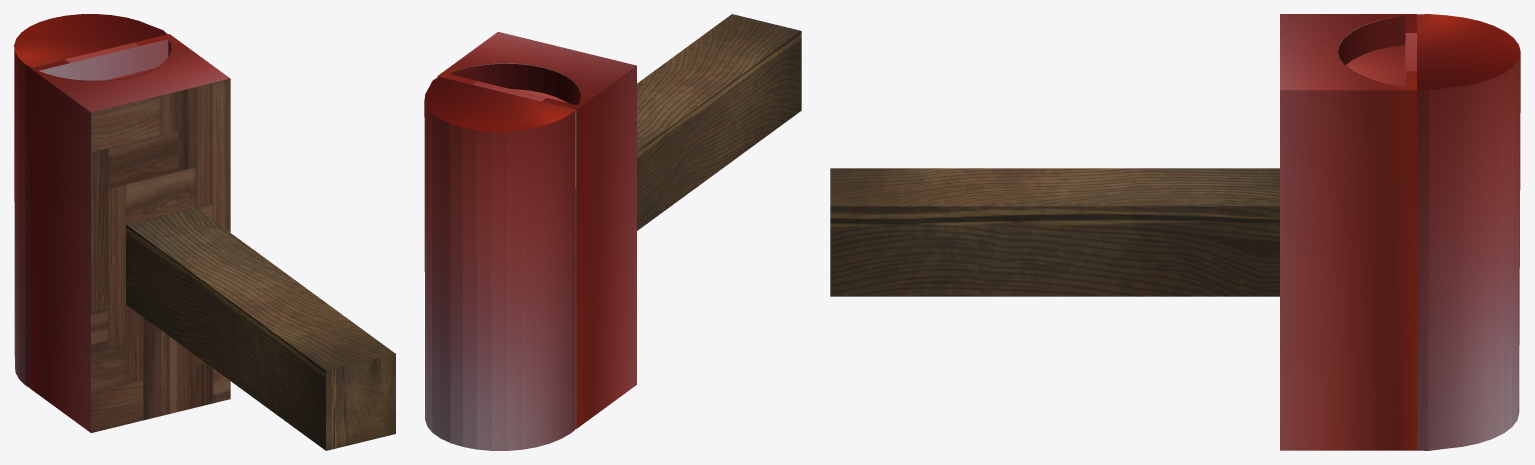
File: buzon.fbx
3 views of the same model, side by side, from view 1: azimuth 30°, elevation 25°; view 2: azimuth 150°, elevation 25°; view 3: azimuth 270°, elevation 25° (orthographic). The views are drawn at different scales.
Visible parts, largest first — view 1: Cube; view 2: Cube; view 3: Cube.
Boxes of the visible parts, x1=… form: Cube: x1=14, y1=14, x2=395, y2=450; Cube: x1=424, y1=14, x2=801, y2=450; Cube: x1=830, y1=14, x2=1520, y2=450.
Size of the model in its own units: 26.4 by 58.28 by 101.
